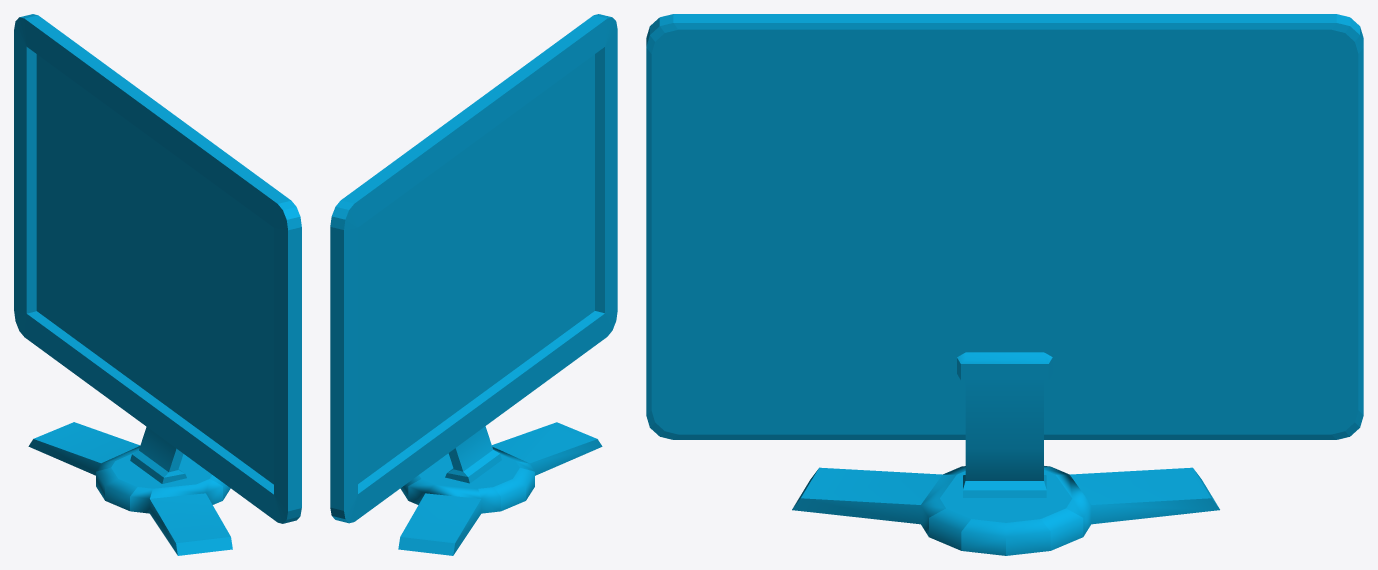
Rendered from Computer_Screen_Lod.fbx.
3 views of the same model, side by side, from view 1: azimuth 30°, elevation 25°; view 2: azimuth 150°, elevation 25°; view 3: azimuth 270°, elevation 25° (orthographic). The views are drawn at different scales.
Parts seen in each view (by area): view 1: Computer_Screen_Lod; view 2: Computer_Screen_Lod; view 3: Computer_Screen_Lod.
Part boxes in pixels (x1,y1,x2,y2): Computer_Screen_Lod: (14,14,301,555); Computer_Screen_Lod: (330,14,617,555); Computer_Screen_Lod: (646,14,1363,555).
Size of the model in its own units: 14.75 by 44.61 by 58.51.
